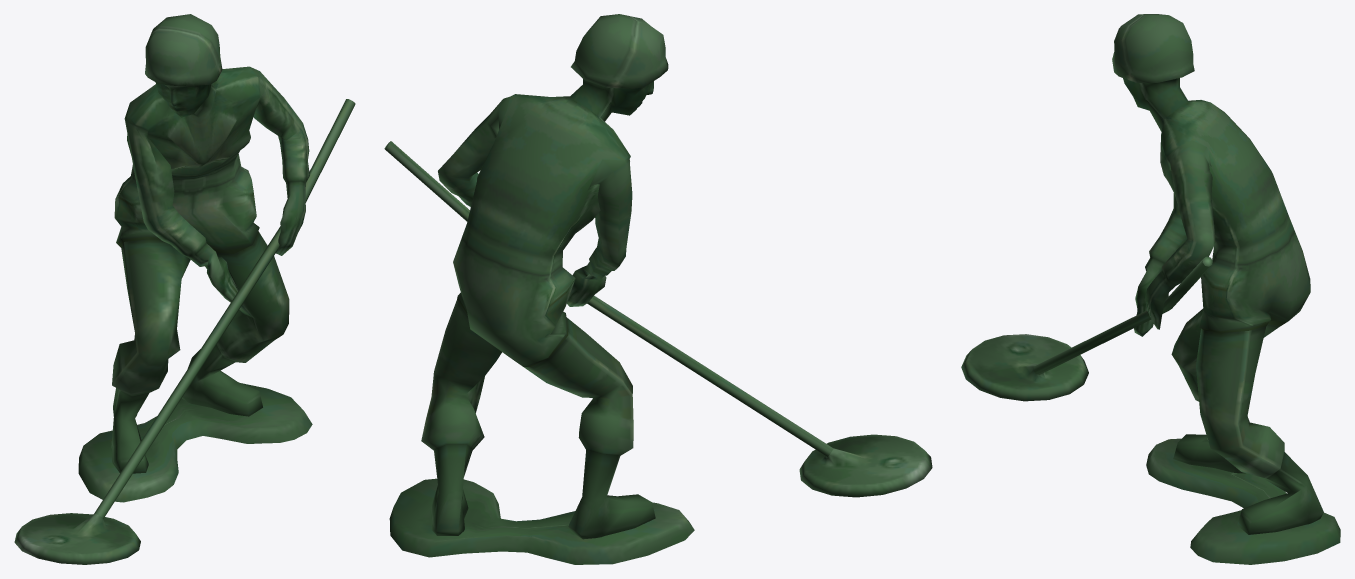
File: army_men.glb
The picture shows the model from 3 angles, left to right: view 1: azimuth 30°, elevation 25°; view 2: azimuth 150°, elevation 25°; view 3: azimuth 270°, elevation 25°; orthographic projection. The views are drawn at different scales.
Visible parts, largest first — view 1: AMR1, AMR2; view 2: AMR1, AMR2; view 3: AMR1, AMR2.
Part boxes in pixels (x1,y1,x2,y2): AMR1: [78, 14, 312, 502]; AMR2: [14, 99, 355, 564]; AMR1: [389, 14, 694, 564]; AMR2: [384, 141, 932, 497]; AMR1: [1112, 14, 1340, 564]; AMR2: [961, 256, 1212, 401].
Size of the model in its own units: 0.4759 by 0.5026 by 0.3677.
2 materials, 2 textured.
